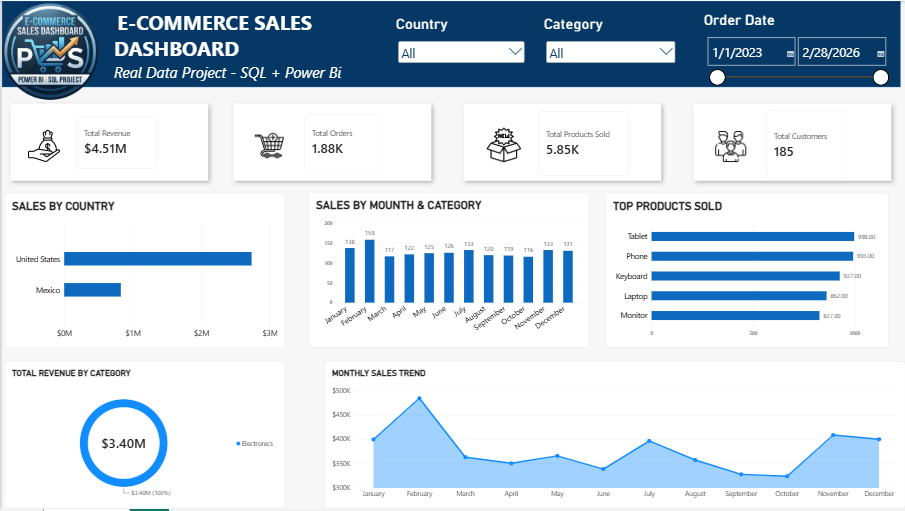

This screenshot's page, from the dashboard's own definition file:
{"tool":"powerbi","page":{"name":"Página 1","canvas":[1920,1080],"ordinal":0},"visuals":[{"type":"shape","box":[0,0,1910,183.3],"z":0},{"type":"textbox","box":[238.3,15,526.7,176.7],"z":1000},{"type":"image","box":[0,1.7,205,211.7],"z":2000},{"type":"slicer","title":"Country","fields":{"Values":["public cleaned_orders.country"]},"box":[838,30,278,124],"z":3000},{"type":"slicer","title":"Category","fields":{"Values":["public cleaned_orders.category"]},"box":[1151.3,30.7,284,124],"z":4000},{"type":"slicer","title":"Order Date","fields":{"Values":["public cleaned_orders.order_date"]},"box":[1491.7,21.7,396,162],"z":5000},{"type":"shape","box":[3.7,204.8,448,192],"z":6000},{"type":"shape","box":[477.7,204.8,448,192],"z":7000},{"type":"shape","box":[967.7,204.8,448,192],"z":8000},{"type":"shape","box":[1455.7,204.8,448,192],"z":9000},{"type":"cardVisual","fields":{"Data":["public cleaned_orders.Total Revenue"]},"box":[157.7,244.8,172,112],"z":10000},{"type":"cardVisual","fields":{"Data":["public cleaned_orders.Total Orders"]},"box":[641.7,240.8,164,118],"z":11000},{"type":"cardVisual","fields":{"Data":["public cleaned_orders.Total Products Sold"]},"box":[1139.7,234.8,193.3,138.3],"z":12000},{"type":"cardVisual","fields":{"Data":["public cleaned_orders.Total Customers"]},"box":[1623.7,230.8,171.7,148.3],"z":13000},{"type":"image","box":[37.7,274.8,102,68],"z":14000},{"type":"image","box":[477.7,276.8,180,62],"z":15000},{"type":"image","box":[1011.7,266.8,110,76],"z":16000},{"type":"image","box":[1455.7,276.8,186,66],"z":17000},{"type":"barChart","title":"SALES BY COUNTRY","fields":{"Category":["public cleaned_orders.country"],"Y":["public cleaned_orders.Total Revenue"]},"box":[4,408,598,330],"z":18000},{"type":"columnChart","title":"SALES BY MOUNTH & CATEGORY","fields":{"Category":["public cleaned_orders.Month Name"],"Y":["CountNonNull(public cleaned_orders.category)"]},"box":[650,406.2,597.5,331.2],"z":19000},{"type":"clusteredBarChart","title":"TOP PRODUCTS SOLD","fields":{"Category":["public cleaned_orders.product"],"Y":["public cleaned_orders.Total Products Sold"]},"box":[1282.5,408.8,603.8,328.8],"z":20000},{"type":"donutChart","title":"TOTAL REVENUE BY CATEGORY","fields":{"Category":["public cleaned_orders.category"],"Y":["public cleaned_orders.Total Revenue"]},"box":[4,766,598,314],"z":20001},{"type":"lineChart","title":"MONTHLY SALES TREND","fields":{"Category":["public cleaned_orders.Month Name"],"Y":["public cleaned_orders.Total Revenue"]},"box":[683.8,765,1236.2,313.8],"z":20002}]}

Visuals, with their boxes in screenshot pixels (x1, y1, x2, y2), scaled from the page's 1920x1080 canvas onto the 905x511 screenshot:
shape: left=0, top=0, right=900, bottom=87
textbox: left=112, top=7, right=361, bottom=91
image: left=0, top=1, right=97, bottom=101
"Country" slicer: left=395, top=14, right=526, bottom=73
"Category" slicer: left=543, top=15, right=677, bottom=73
"Order Date" slicer: left=703, top=10, right=890, bottom=87
shape: left=2, top=97, right=213, bottom=188
shape: left=225, top=97, right=436, bottom=188
shape: left=456, top=97, right=667, bottom=188
shape: left=686, top=97, right=897, bottom=188
cardVisual - public cleaned_orders.Total Revenue: left=74, top=116, right=155, bottom=169
cardVisual - public cleaned_orders.Total Orders: left=302, top=114, right=380, bottom=170
cardVisual - public cleaned_orders.Total Products Sold: left=537, top=111, right=628, bottom=177
cardVisual - public cleaned_orders.Total Customers: left=765, top=109, right=846, bottom=179
image: left=18, top=130, right=66, bottom=162
image: left=225, top=131, right=310, bottom=160
image: left=477, top=126, right=529, bottom=162
image: left=686, top=131, right=774, bottom=162
"SALES BY COUNTRY" barChart: left=2, top=193, right=284, bottom=349
"SALES BY MOUNTH & CATEGORY" columnChart: left=306, top=192, right=588, bottom=349
"TOP PRODUCTS SOLD" clusteredBarChart: left=605, top=193, right=889, bottom=349
"TOTAL REVENUE BY CATEGORY" donutChart: left=2, top=362, right=284, bottom=510
"MONTHLY SALES TREND" lineChart: left=322, top=362, right=904, bottom=510
